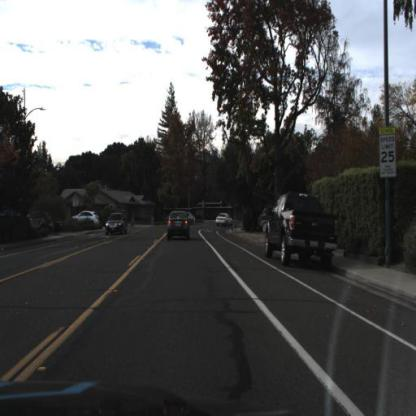car: (265, 192, 338, 269), (167, 211, 192, 242), (107, 211, 128, 235), (78, 214, 100, 226), (217, 213, 233, 229)
